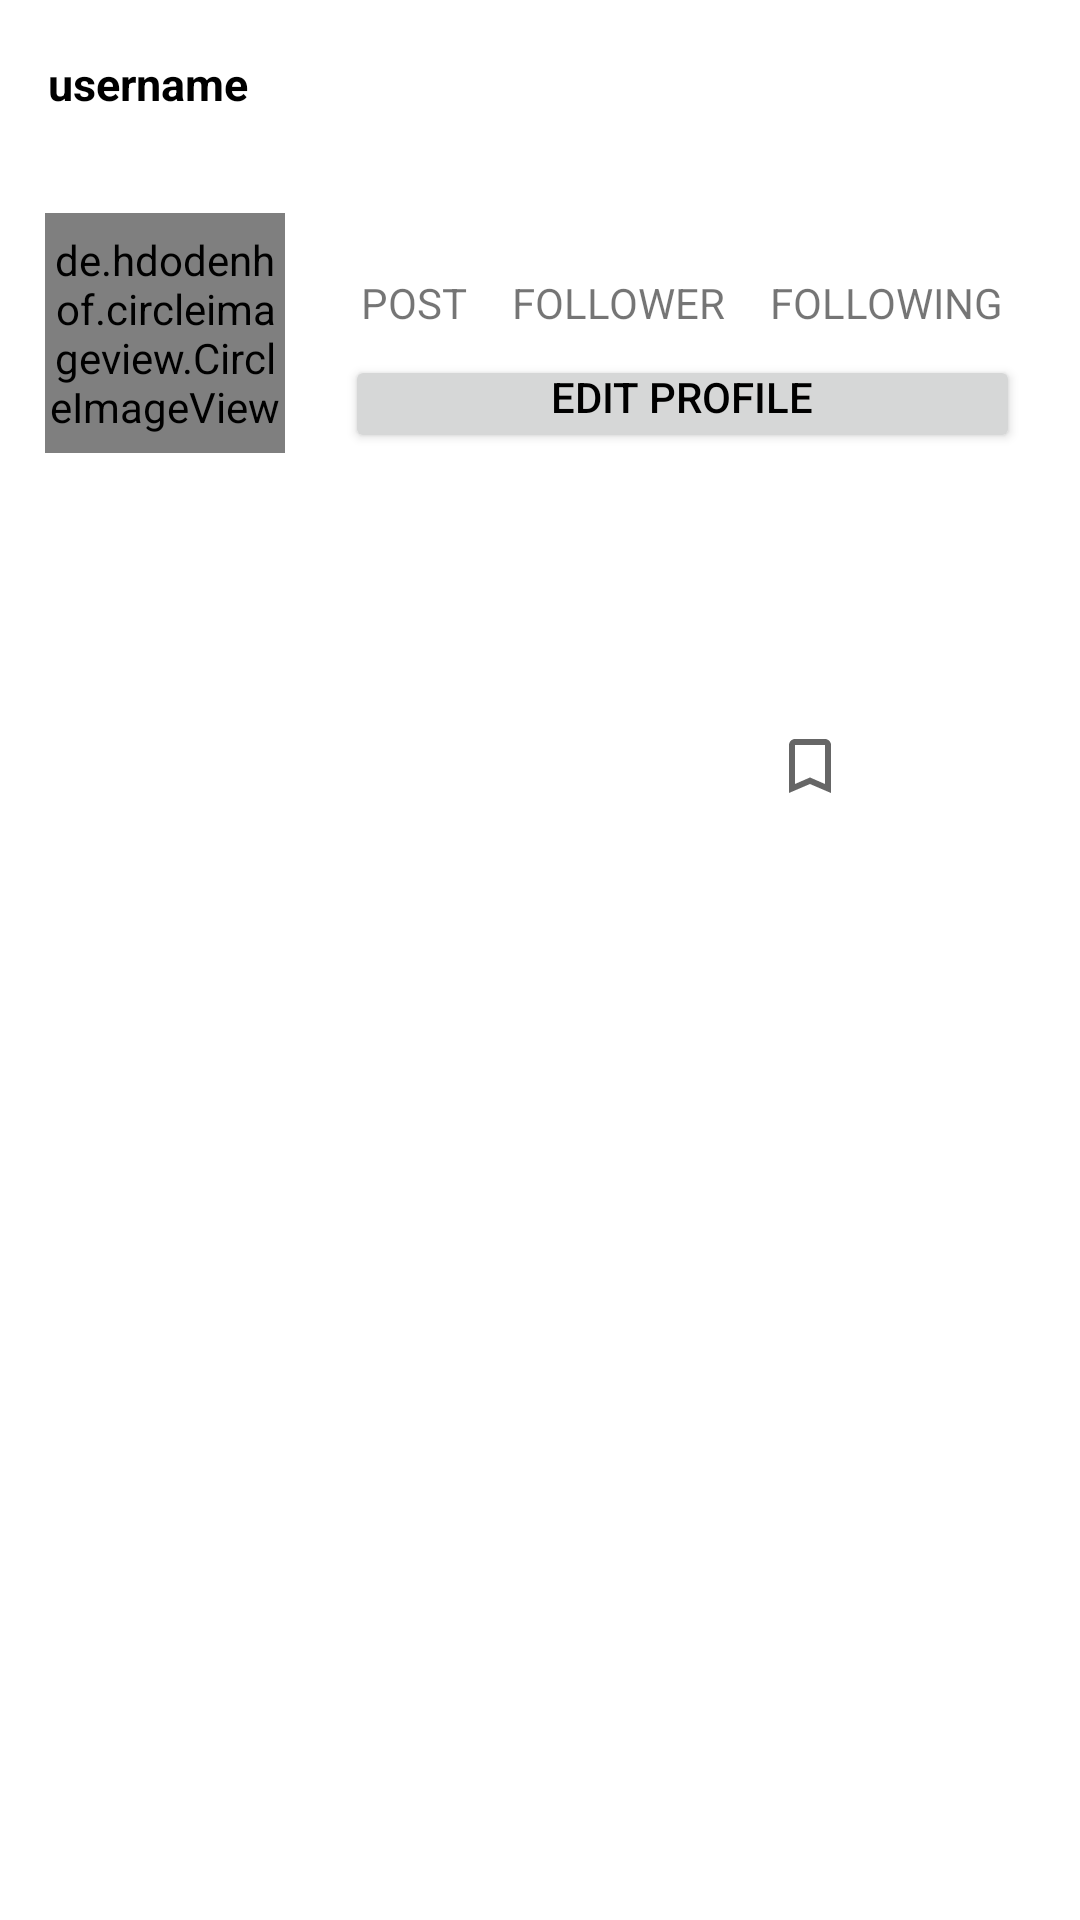

Icon click points for this 1080px x 1920px phone screenshot, format (x=x, y=y):
save: (x=810, y=766)
